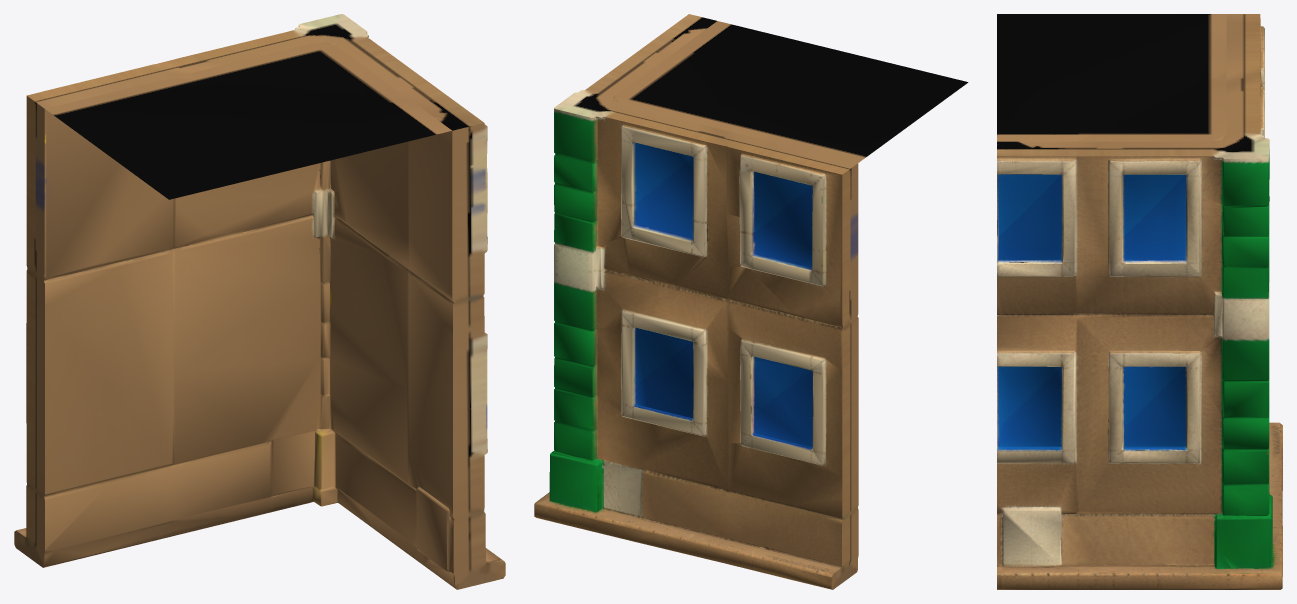
File: 4-ground-floor-back-right.fbx
3 renders of one model, left to right at view 1: azimuth 30°, elevation 25°; view 2: azimuth 150°, elevation 25°; view 3: azimuth 270°, elevation 25°, orthographic. The views are drawn at different scales.
Parts seen in each view (by area): view 1: ground-floor-back-right; view 2: ground-floor-back-right; view 3: ground-floor-back-right.
Boxes of the visible parts, <box> form: ground-floor-back-right: <box>14,14,505,589</box>; ground-floor-back-right: <box>534,14,968,589</box>; ground-floor-back-right: <box>997,14,1282,589</box>.
Size of the model in its own units: 6746 by 8821 by 5374.
1 material, 1 textured.
